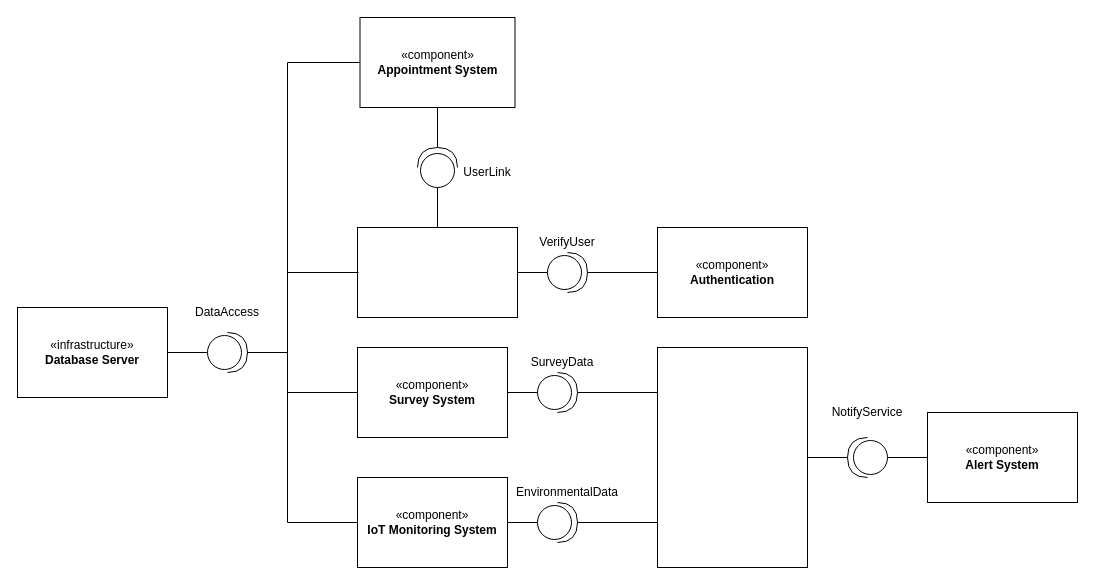
Some shapes in this 1095 by 585 pixel diagram are drawn without their labels. The shapes that lost their labels are listed below. From the top down, each one's centre as x and y in pixels, then its label:
At (x=437, y=272): "«component» User Profile System".
At (x=732, y=457): "«component» Analytics Engine".
